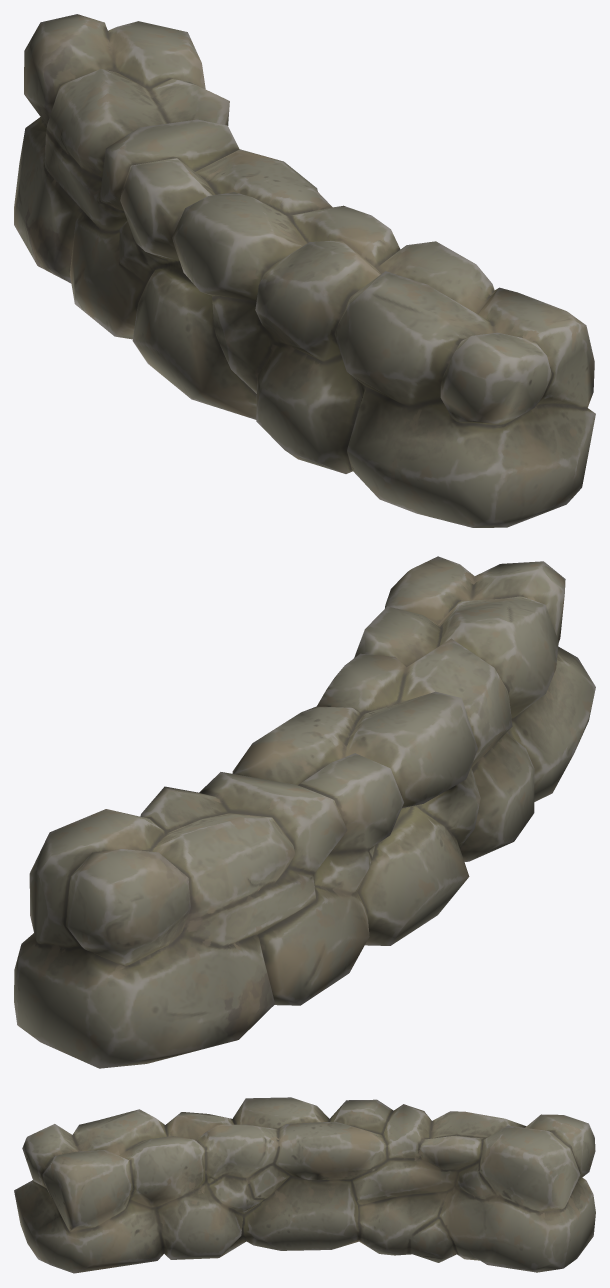
Rendered from GN_AiQiang_04.fbx.
The picture shows the model from 3 angles, top to bottom: view 1: azimuth 30°, elevation 25°; view 2: azimuth 150°, elevation 25°; view 3: azimuth 270°, elevation 25°; orthographic projection. The views are drawn at different scales.
Visible parts, largest first — view 1: GN_AiQiang_04; view 2: GN_AiQiang_04; view 3: GN_AiQiang_04.
Boxes of the visible parts, bbox=[...] form: GN_AiQiang_04: bbox=[14, 14, 595, 527]; GN_AiQiang_04: bbox=[14, 556, 595, 1068]; GN_AiQiang_04: bbox=[14, 1097, 595, 1273].
Size of the model in its own units: 80.26 by 64.14 by 261.
